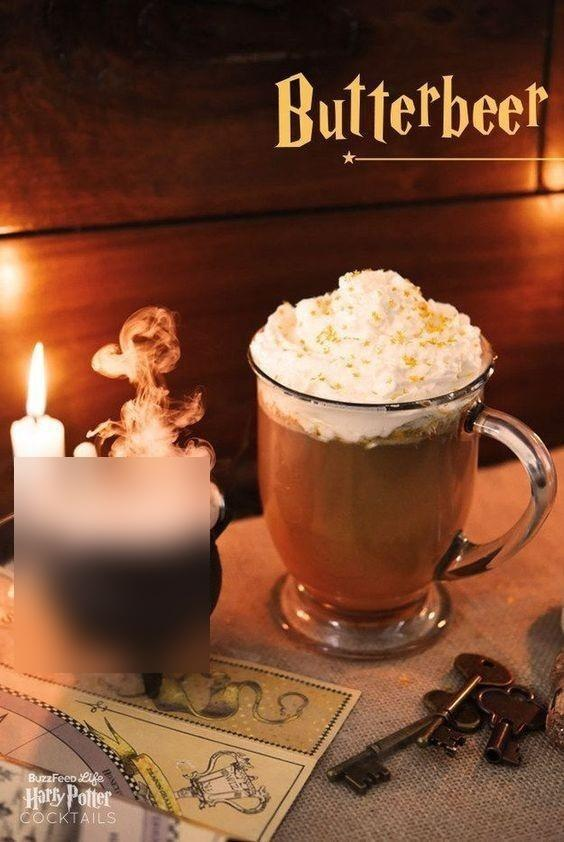glass-mug: (245, 296, 561, 662)
